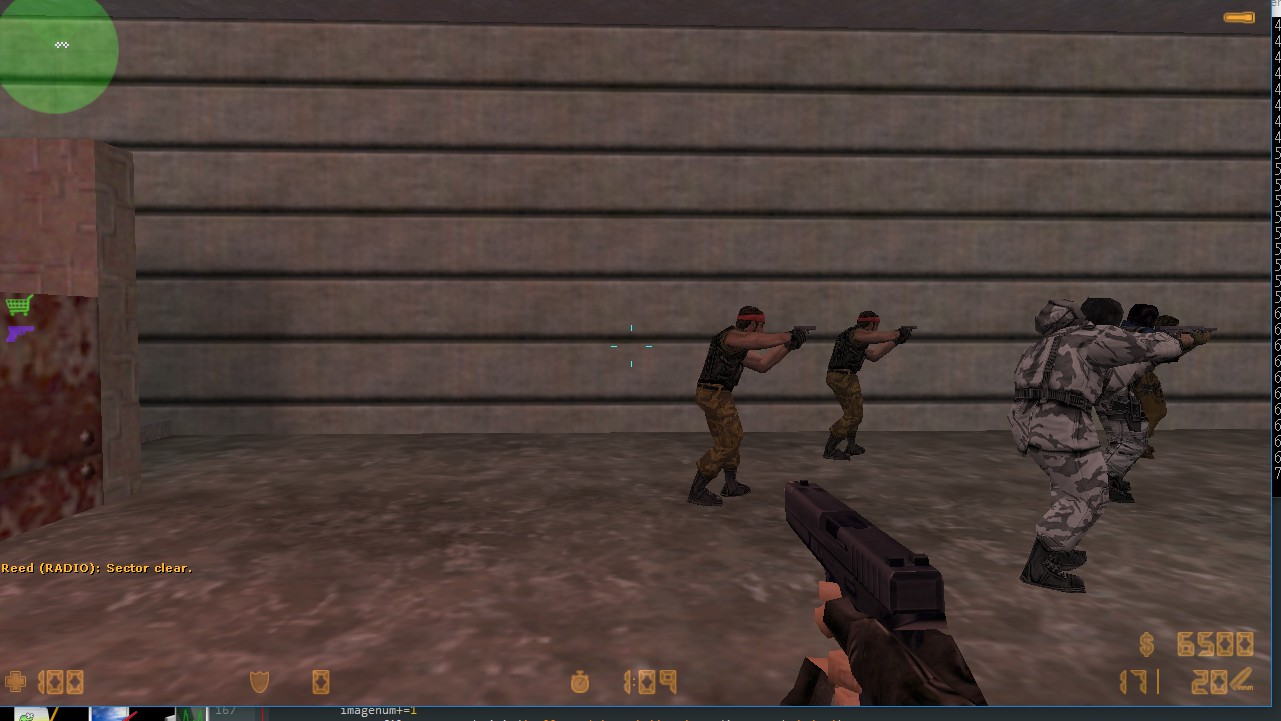person: (1014, 289, 1117, 606), (689, 294, 770, 513), (1097, 300, 1158, 510), (828, 298, 880, 462)
